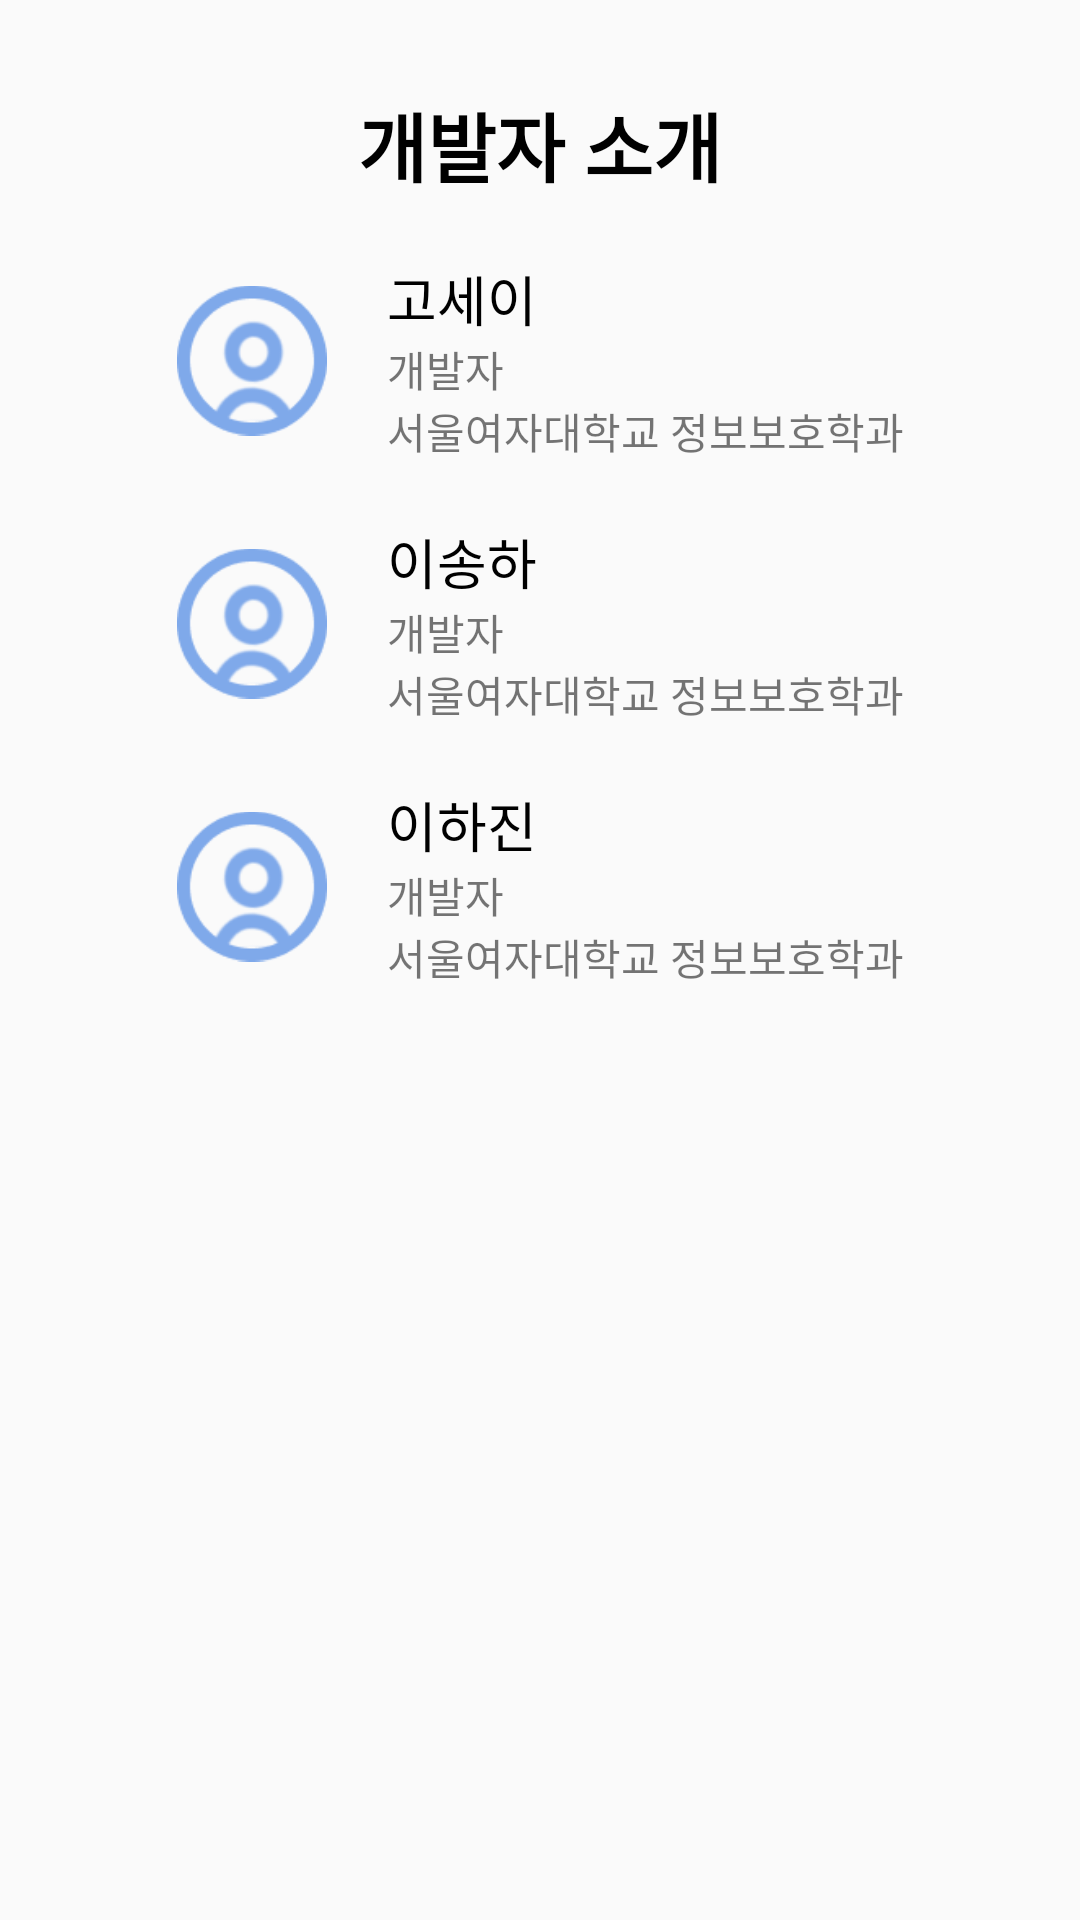

Icons on this 1080x1920 Android screen, each with its box as (x1, y1, x2, y2):
mypage: (177, 286, 327, 436), (177, 549, 327, 699), (177, 812, 327, 962)
